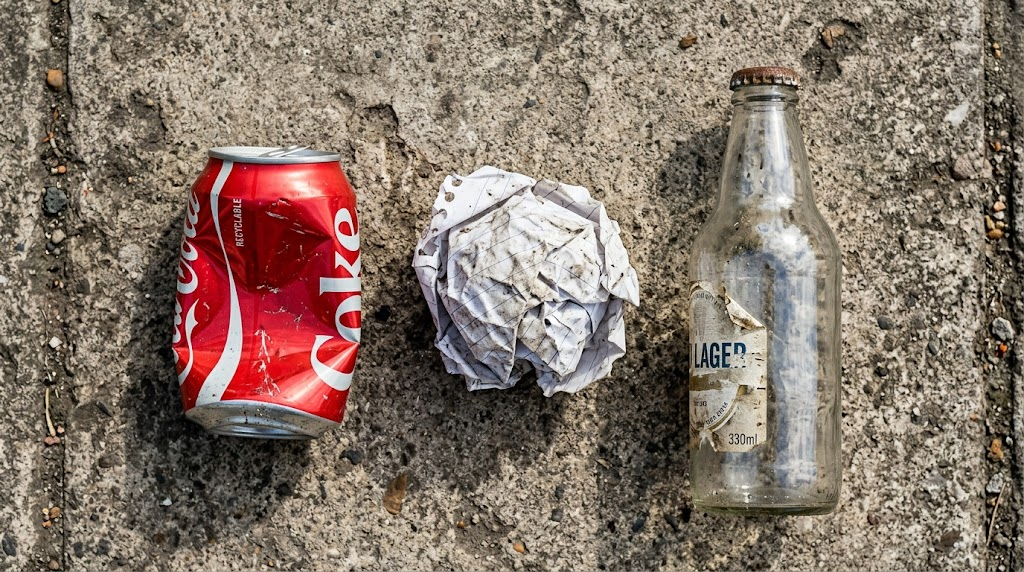glass: (681, 63, 845, 515)
metal: (169, 143, 364, 440)
paper: (410, 143, 635, 412)
